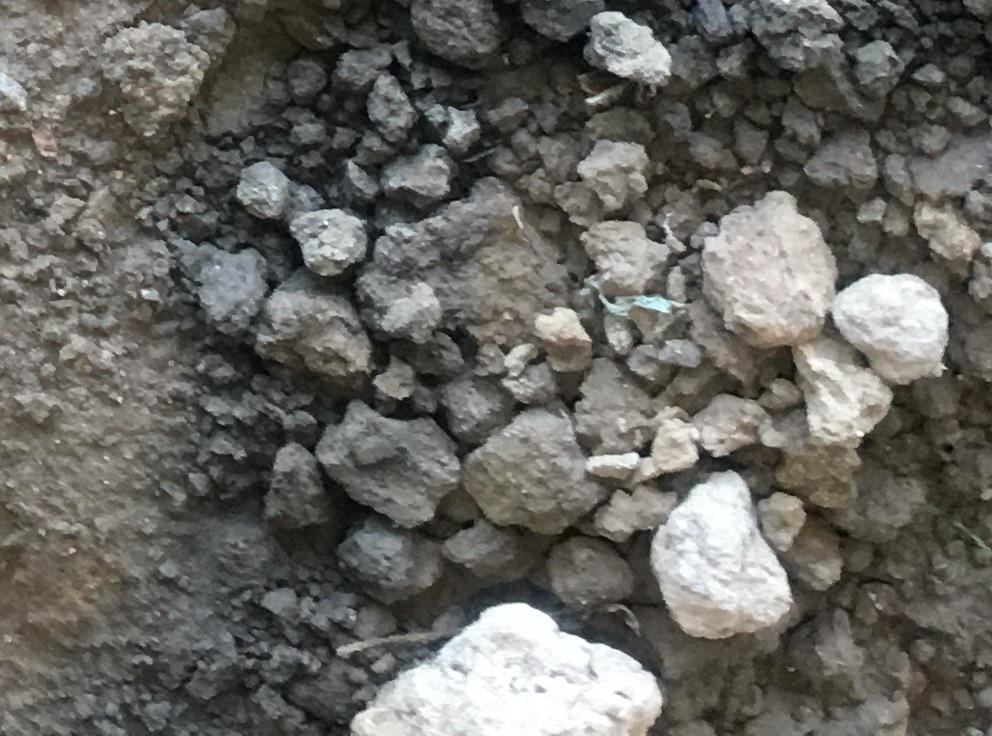block: (347, 604, 663, 736), (378, 185, 571, 356), (650, 468, 792, 646), (700, 188, 833, 350), (458, 402, 599, 534), (322, 403, 463, 533), (828, 267, 952, 384)
